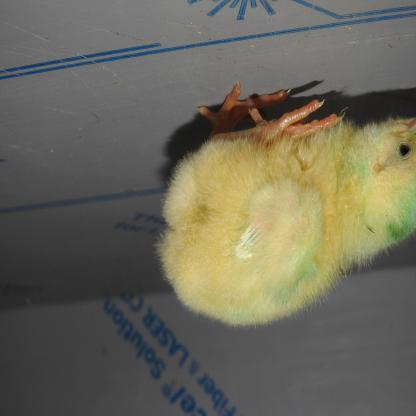Chickrotationtrack_idkeyframe: (158, 90, 415, 328)
